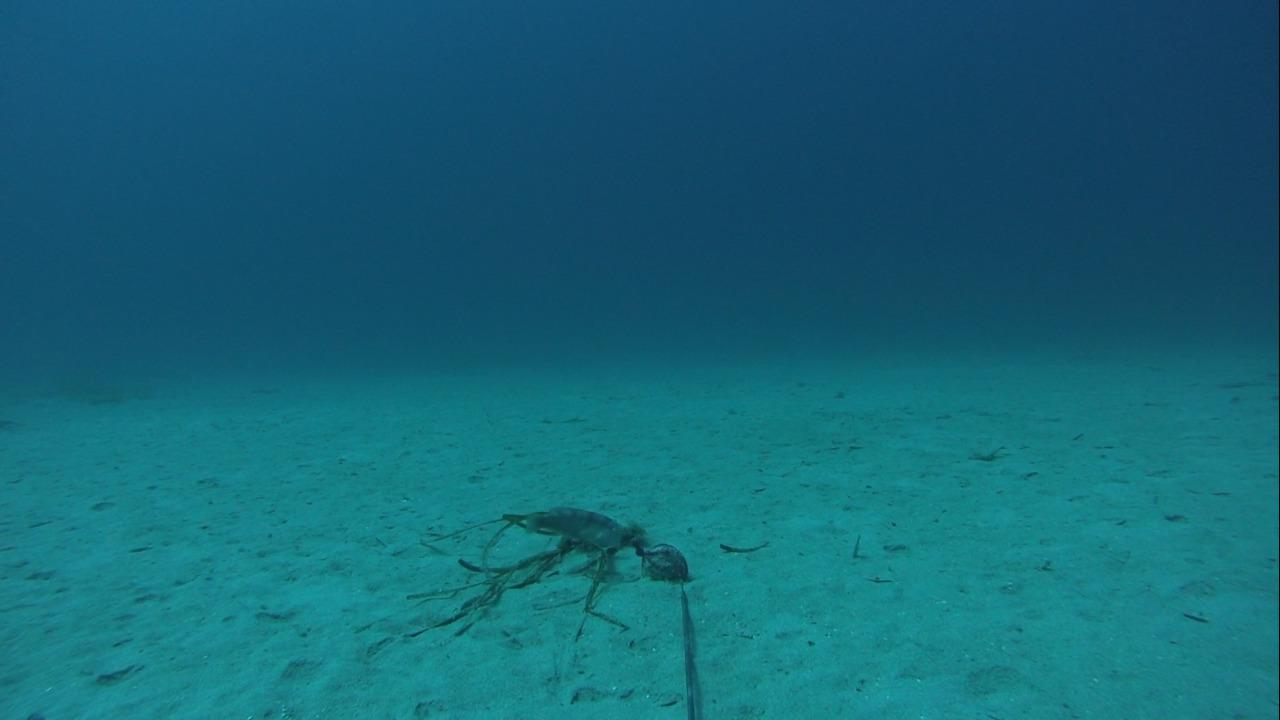raor: (513, 501, 630, 559)
